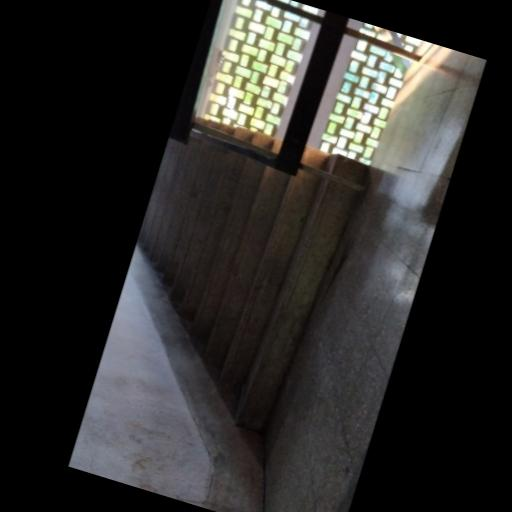stairs: (139, 139, 360, 429)
